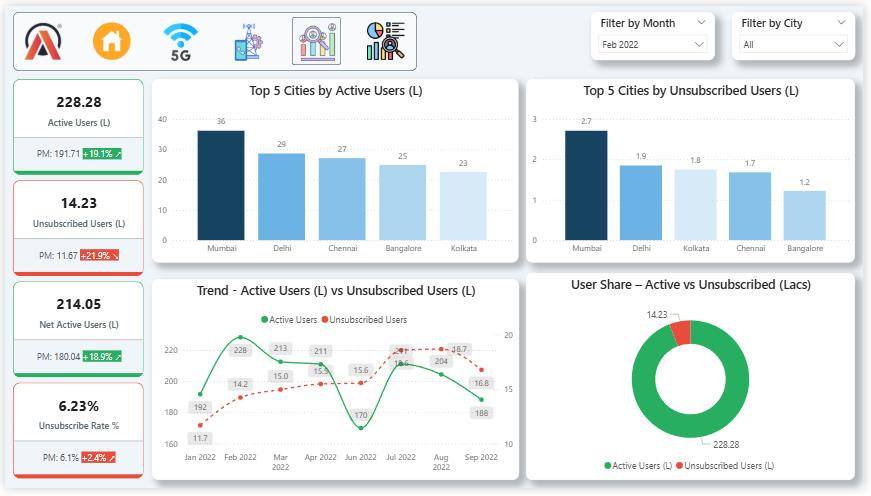

Layout of this report page (visuals, bound fields, positions):
{"tool":"powerbi","page":{"name":"User Analysis","canvas":[1280,720],"ordinal":3},"visuals":[{"type":"shape","box":[11.9,8.6,603,88.1],"z":0,"group":"g1"},{"type":"cardVisual","fields":{"Data":["Key_Measures.Total Active Users (L)","Key_Measures.Total Unsubscribed Users (L)","Key_Measures.Net Active Users (L)","Key_Measures.Unsubscribe Rate %"]},"box":[11.8,108.8,195.6,598.5],"z":0},{"type":"slicer","title":"City","fields":{"Values":["dim_date.Month Year"]},"box":[874.6,9,185.1,71.6],"z":1000},{"type":"image","box":[23.8,19,67.2,65.7],"z":1000,"group":"g1"},{"type":"image","box":[125.9,19.6,67.2,65.7],"z":2000,"group":"g1"},{"type":"lineChart","title":"Trend - Active Users (L) vs Unsubscribed Users (L)","fields":{"Category":["dim_date.Month Year"],"Y":["Key_Measures.Trend – Active Users (L)"],"Y2":["Key_Measures.Trend – Unsubscribed Users (L)"]},"box":[219.4,407.5,547.8,300],"z":2000},{"type":"image","box":[228,19.9,67.2,65.7],"z":3000,"group":"g1"},{"type":"columnChart","title":"Top 5 Cities by Active Users (L)","fields":{"Category":["dim_cities.city_name"],"Y":["Key_Measures.Total Active Users (L)"]},"box":[219.1,108.8,547.1,273.5],"z":3000},{"type":"image","box":[330.1,20.2,67.2,65.7],"z":4000,"group":"g1"},{"type":"columnChart","title":"Top 5 Cities by Unsubscribed Users (L)","fields":{"Category":["dim_cities.city_name"],"Y":["Key_Measures.Total Unsubscribed Users (L)"]},"box":[777.9,108.4,491.2,273.5],"z":4000},{"type":"image","box":[432.2,20.5,67.2,65.7],"z":5000,"group":"g1"},{"type":"donutChart","title":"User Share – Active vs Unsubscribed (Lacs)","fields":{"Y":["Key_Measures.Total Active Users (L)","Key_Measures.Total Unsubscribed Users (L)"]},"box":[778,399,491,309],"z":5000},{"type":"group","id":"g1","title":"Navigation Pane Group","box":[11.9,8.6,603,88.1],"z":6000},{"type":"image","box":[534.3,19.3,67.2,65.7],"z":6000,"group":"g1"},{"type":"slicer","title":"City","fields":{"Values":["dim_cities.city_name"]},"box":[1085.1,9,183.6,71.6],"z":7000},{"type":"shape","box":[428.3,16.1,73.1,71.6],"z":7000,"group":"g1"},{"type":"actionButton","box":[329.8,20.5,67.2,65.7],"z":8000,"group":"g1"},{"type":"actionButton","box":[228.3,19,67.2,65.7],"z":9000,"group":"g1"},{"type":"actionButton","box":[534.3,20.5,67.2,65.7],"z":10000,"group":"g1"},{"type":"actionButton","box":[125.3,19,67.2,65.7],"z":11000,"group":"g1"}]}

Visuals, with their boxes in screenshot pixels (x1, y1, x2, y2), scaled from the page's 1280x720 canvas onto the 871x496 screenshot:
shape: 8/6/418/67
cardVisual - Key_Measures.Total Active Users (L) x Key_Measures.Total Unsubscribed Users (L): 8/75/141/487
"City" slicer: 595/6/721/56
image: 16/13/62/58
image: 86/14/131/59
"Trend - Active Users (L) vs Unsubscribed Users (L)" lineChart: 149/281/522/487
image: 155/14/201/59
"Top 5 Cities by Active Users (L)" columnChart: 149/75/521/263
image: 225/14/270/59
"Top 5 Cities by Unsubscribed Users (L)" columnChart: 529/75/864/263
image: 294/14/340/59
"User Share – Active vs Unsubscribed (Lacs)" donutChart: 529/275/864/488
"Navigation Pane Group" group: 8/6/418/67
image: 364/13/409/59
"City" slicer: 738/6/863/56
shape: 291/11/341/60
actionButton: 224/14/270/59
actionButton: 155/13/201/58
actionButton: 364/14/409/59
actionButton: 85/13/131/58
